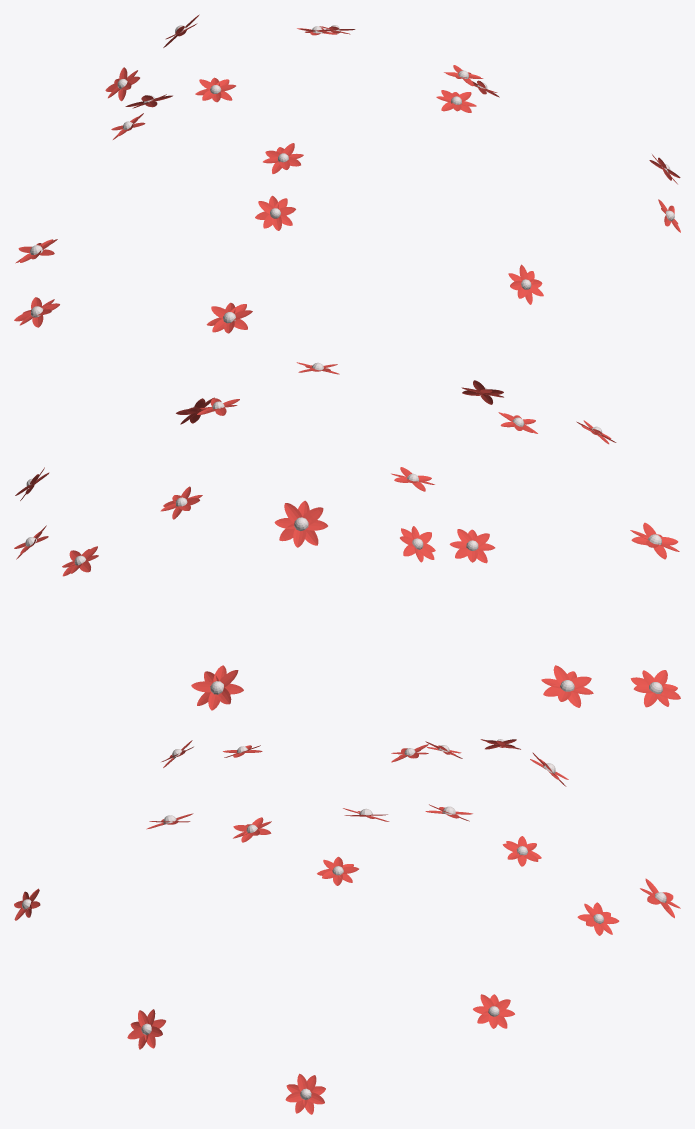
The model's file is เดซี่แดง.fbx.
3 renders of one model, top to bottom at view 1: azimuth 30°, elevation 25°; view 2: azimuth 150°, elevation 25°; view 3: azimuth 270°, elevation 25°, orthographic. The views are drawn at different scales.
Parts seen in each view (by area): view 1: ระนาบ.016, ระนาบ.005, ระนาบ.001, ระนาบ.008, ระนาบ.007, ระนาบ.018, ระนาบ.012; view 2: ระนาบ.014, ระนาบ.017, ระนาบ.015, ระนาบ.018, ระนาบ.004, ระนาบ.011, ระนาบ.016; view 3: ระนาบ.002, ระนาบ.010, ระนาบ.009, ระนาบ.003, ระนาบ.006, ระนาบ.013.
Boxes of the visible parts, left/top/right/bottom form: ระนาบ.016: left=206, top=302, right=252, bottom=333; ระนาบ.005: left=255, top=195, right=295, bottom=230; ระนาบ.001: left=508, top=264, right=543, bottom=304; ระนาบ.008: left=263, top=143, right=303, bottom=173; ระนาบ.007: left=195, top=77, right=235, bottom=102; ระนาบ.018: left=14, top=297, right=59, bottom=327; ระนาบ.012: left=436, top=90, right=476, bottom=112; ระนาบ.014: left=274, top=500, right=327, bottom=547; ระนาบ.017: left=191, top=665, right=243, bottom=710; ระนาบ.015: left=541, top=665, right=593, bottom=707; ระนาบ.018: left=630, top=670, right=680, bottom=707; ระนาบ.004: left=449, top=529, right=495, bottom=563; ระนาบ.011: left=400, top=526, right=435, bottom=562; ระนาบ.016: left=630, top=522, right=679, bottom=559; ระนาบ.002: left=285, top=1073, right=325, bottom=1114; ระนาบ.010: left=473, top=994, right=514, bottom=1028; ระนาบ.009: left=127, top=1009, right=165, bottom=1049; ระนาบ.003: left=577, top=902, right=619, bottom=935; ระนาบ.006: left=317, top=856, right=358, bottom=885; ระนาบ.013: left=502, top=836, right=541, bottom=866.
Size of the model in its own units: 237 by 65.35 by 213.
